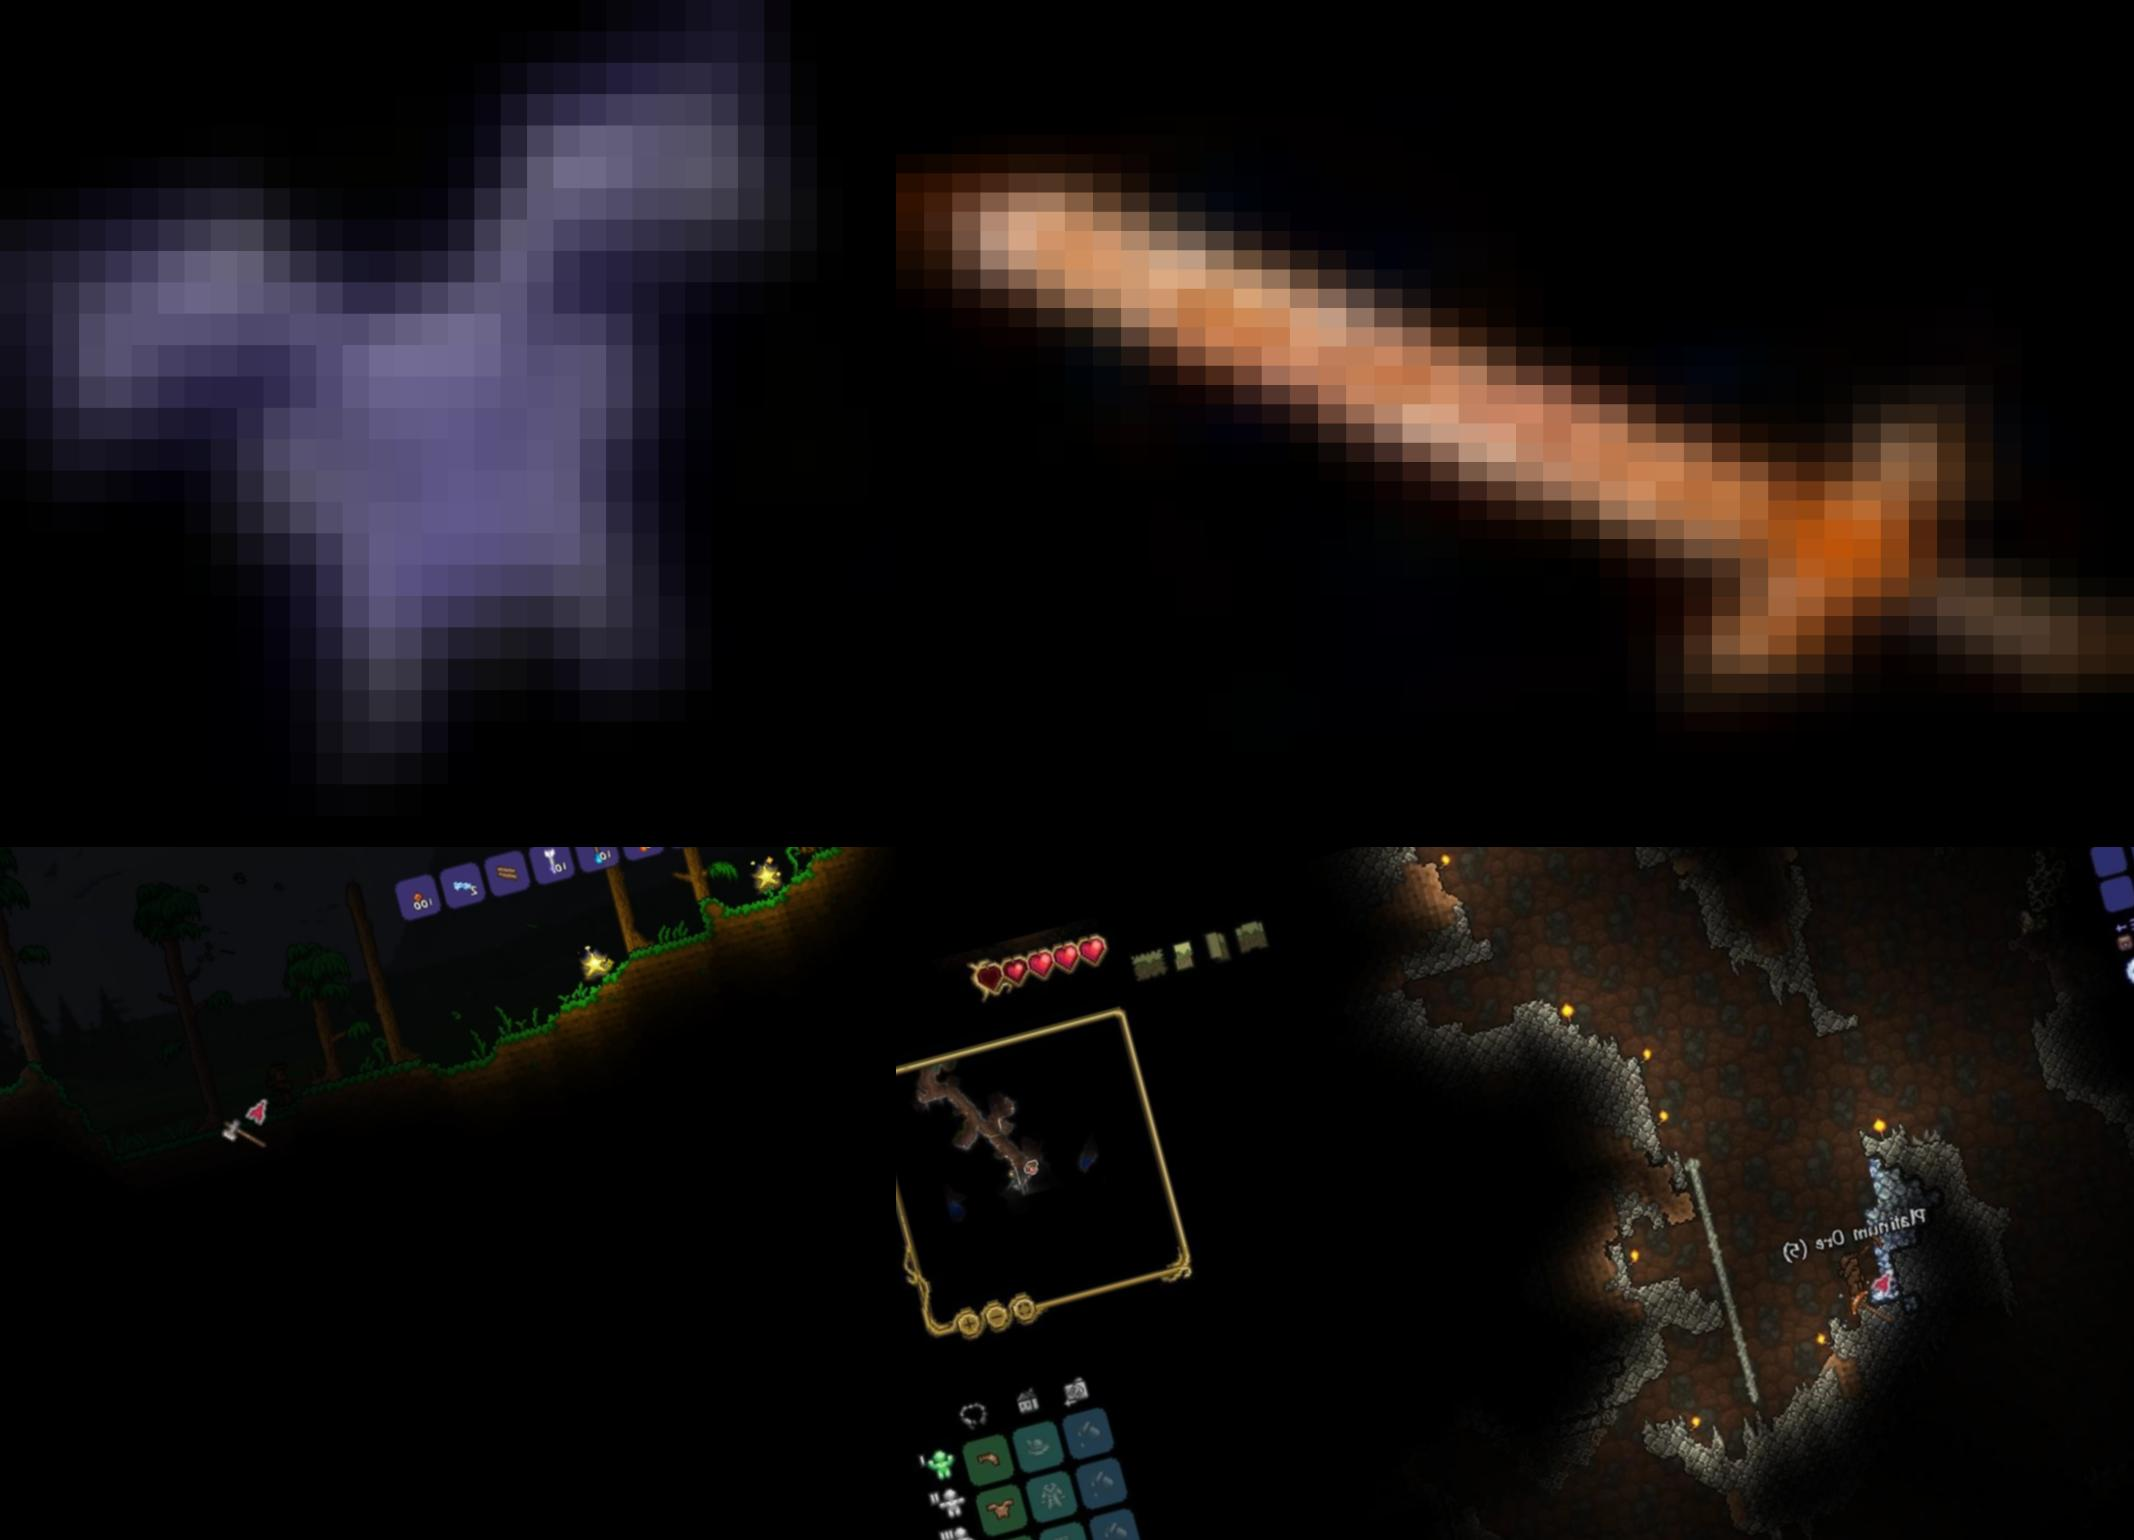breastplate: (0, 0, 896, 847)
heart: (1074, 932, 1112, 970)
star: (752, 857, 787, 895)
sword: (896, 0, 2134, 847)
